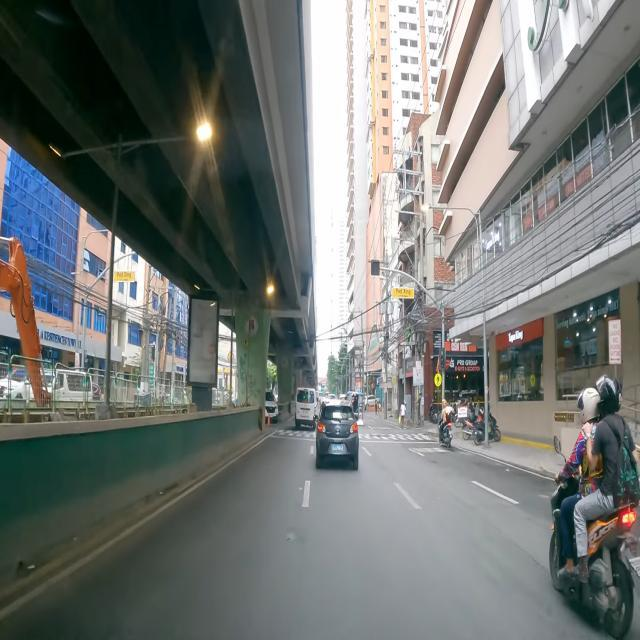car: (316, 400, 359, 470), (294, 388, 318, 430), (265, 390, 278, 424), (364, 396, 376, 410)
jeepney: (345, 392, 364, 425)
motorcycle: (549, 375, 640, 640), (474, 412, 502, 445), (438, 398, 455, 446), (462, 406, 483, 440), (429, 403, 438, 424)
